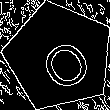O_NW: (26, 24, 92, 89)
